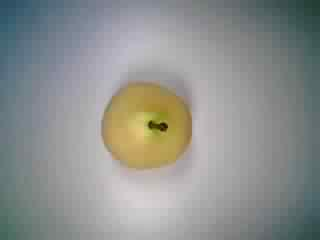pear: (91, 74, 199, 177)
